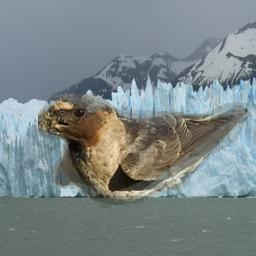Swallow: (38, 93, 251, 208)
